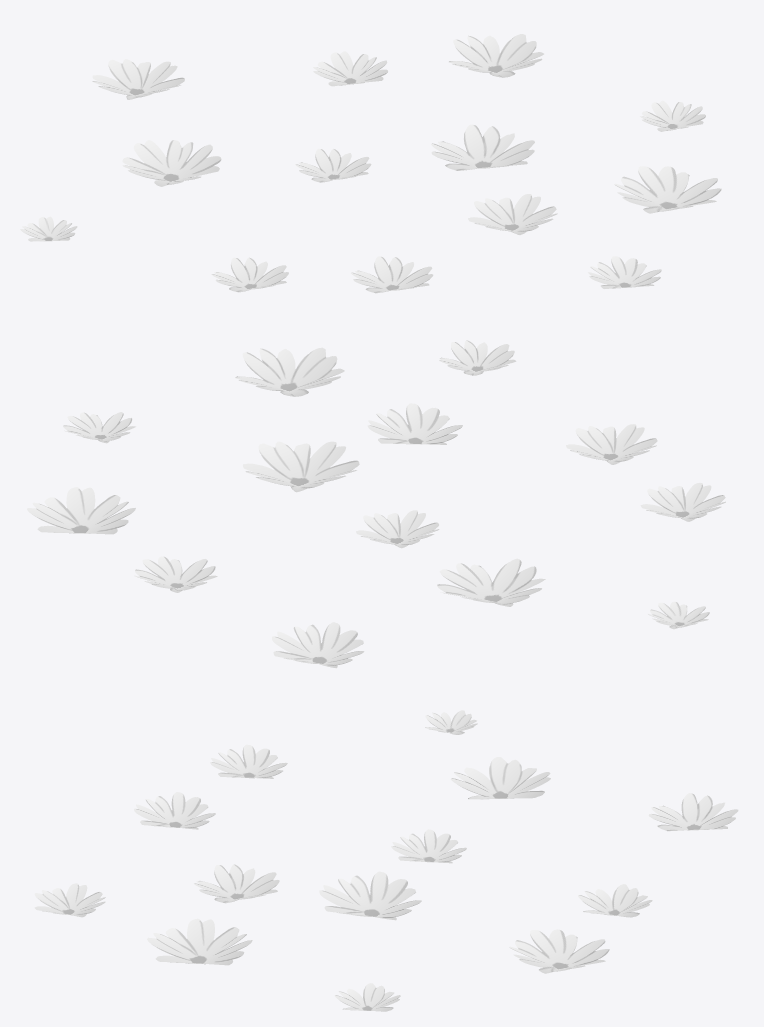
The model's file is flowers.FBX.
3 renders of one model, top to bottom at view 1: azimuth 30°, elevation 25°; view 2: azimuth 150°, elevation 25°; view 3: azimuth 270°, elevation 25°, orthographic. The views are drawn at different scales.
Parts seen in each view (by area): view 1: Plane008; view 2: Plane008; view 3: Plane008.
Part boxes in pixels (x1,y1,x2,y2): Plane008: (20, 34, 721, 293); Plane008: (27, 340, 725, 668); Plane008: (34, 710, 738, 1011).
Size of the model in its own units: 121 by 5.45 by 119.
Materials: 1 (1 with a texture image).
